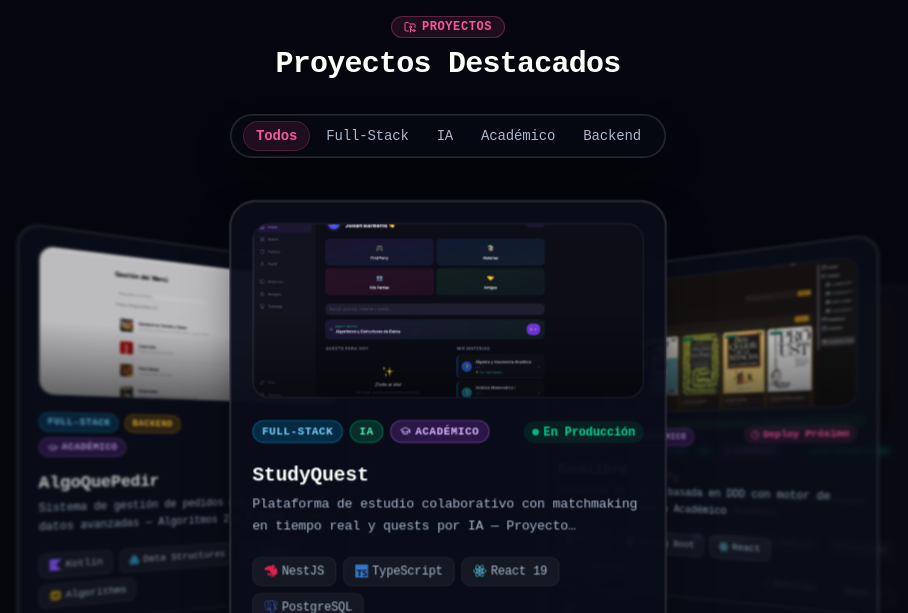
Projects Component (src/components/Projects.tsx) › Category Filtering › resets back to all projects when clicking 'Todos'
First click Backend
Click the tab "Backend": (612,136) [571,122,653,150]
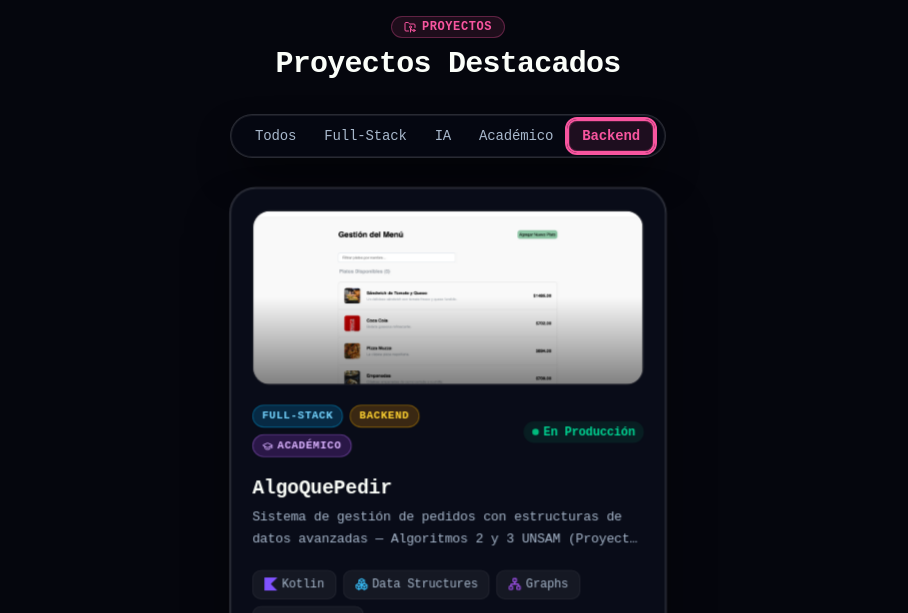
Expected: the heading "StudyQuest" is gone
Click the tab "Todos": (276,136) [243,122,308,150]
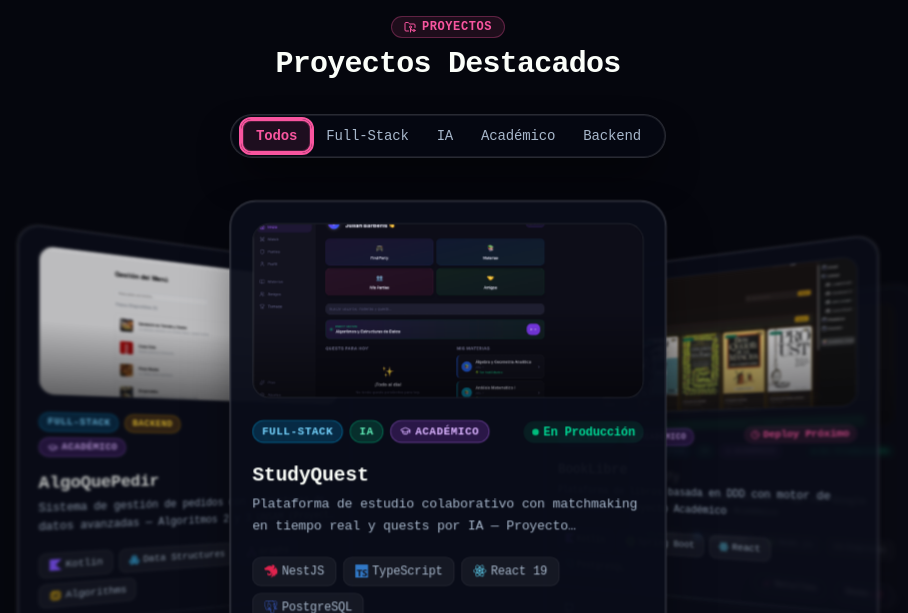
Expected: the heading "SQLify" is shown, [641,470,679,484]
Expected: the heading "StudyQuest" is shown, [252,463,369,485]
